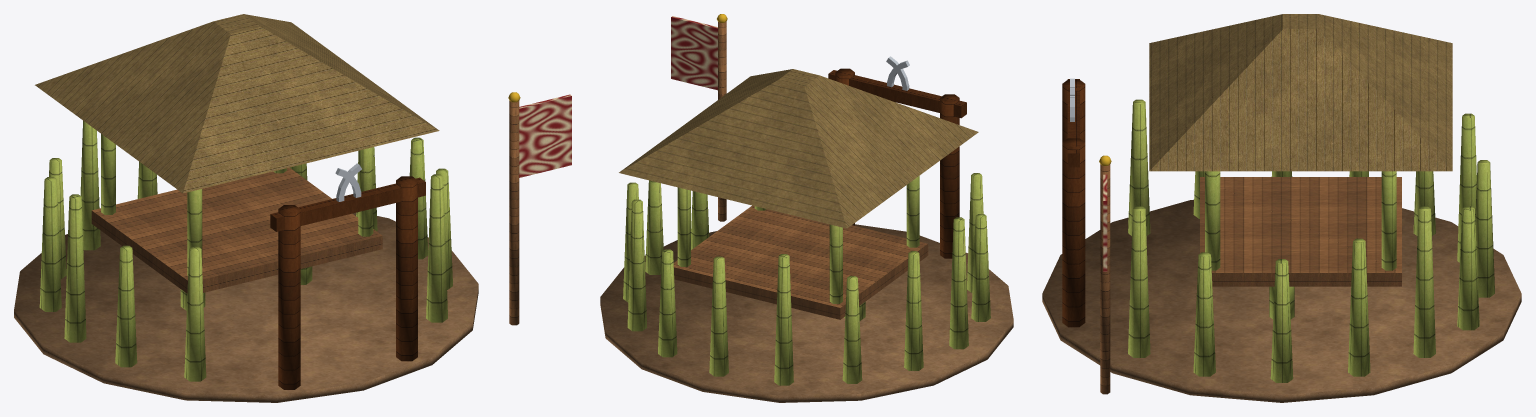
Rendered from barracks_sunda.glb.
The picture shows the model from 3 angles, left to right: view 1: azimuth 30°, elevation 25°; view 2: azimuth 150°, elevation 25°; view 3: azimuth 270°, elevation 25°; orthographic projection. The views are drawn at different scales.
Parts seen in each view (by area): view 1: barracks_sunda; view 2: barracks_sunda; view 3: barracks_sunda.
Boxes of the visible parts, x1,y1,x2,y2 form: barracks_sunda: (14,14,571,402); barracks_sunda: (600,14,1013,402); barracks_sunda: (1042,14,1521,402).
Bounding box in the file's own units: 4.13 × 2.45 × 3.8.
Materials: 8 (6 with a texture image).
